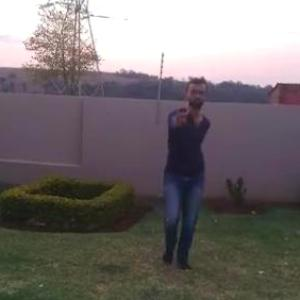takeoff-hand: (170, 96, 194, 134)
